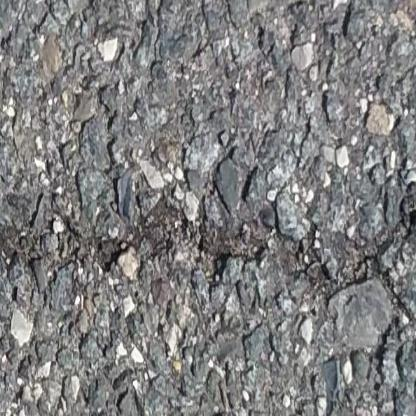Cracks: (0, 180, 416, 386), (8, 284, 24, 306)
